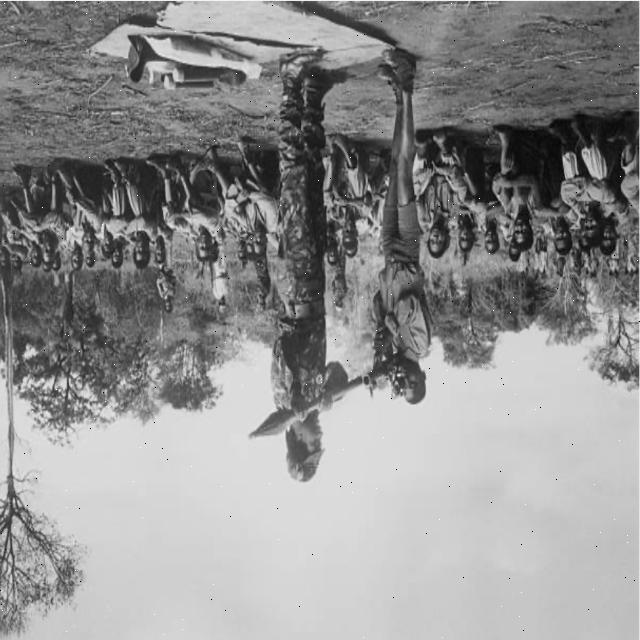bazooka: (246, 372, 374, 447)
